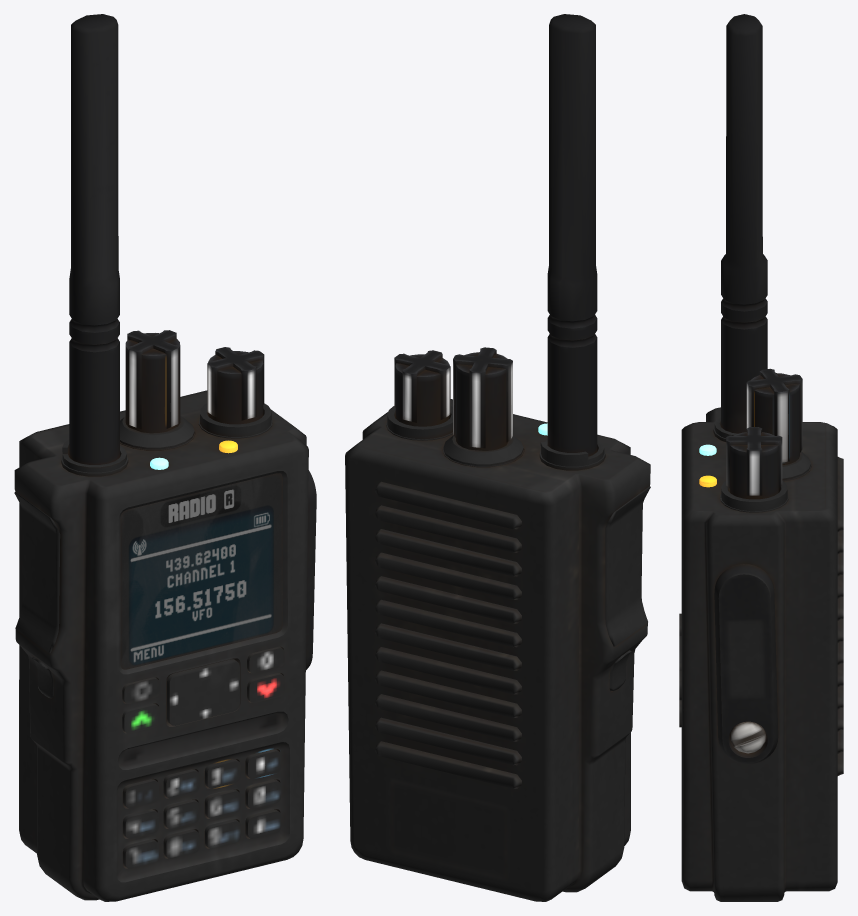
File: portable-radio---walkie-talkie--dual-ban-0b44c0.glb
3 renders of one model, left to right at view 1: azimuth 30°, elevation 25°; view 2: azimuth 150°, elevation 25°; view 3: azimuth 270°, elevation 25°, orthographic. The views are drawn at different scales.
Parts seen in each view (by area): view 1: PropMesh; view 2: PropMesh; view 3: PropMesh.
Boxes of the visible parts, x1,y1,x2,y2 form: PropMesh: [14, 14, 316, 901]; PropMesh: [345, 14, 650, 901]; PropMesh: [679, 14, 843, 901].
Bounding box in the file's own units: 0.0918 × 0.28 × 0.052.
Materials: 2 (2 with a texture image).
